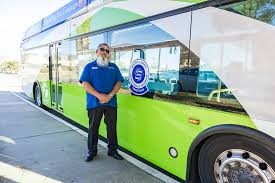bus: (20, 1, 275, 183)
